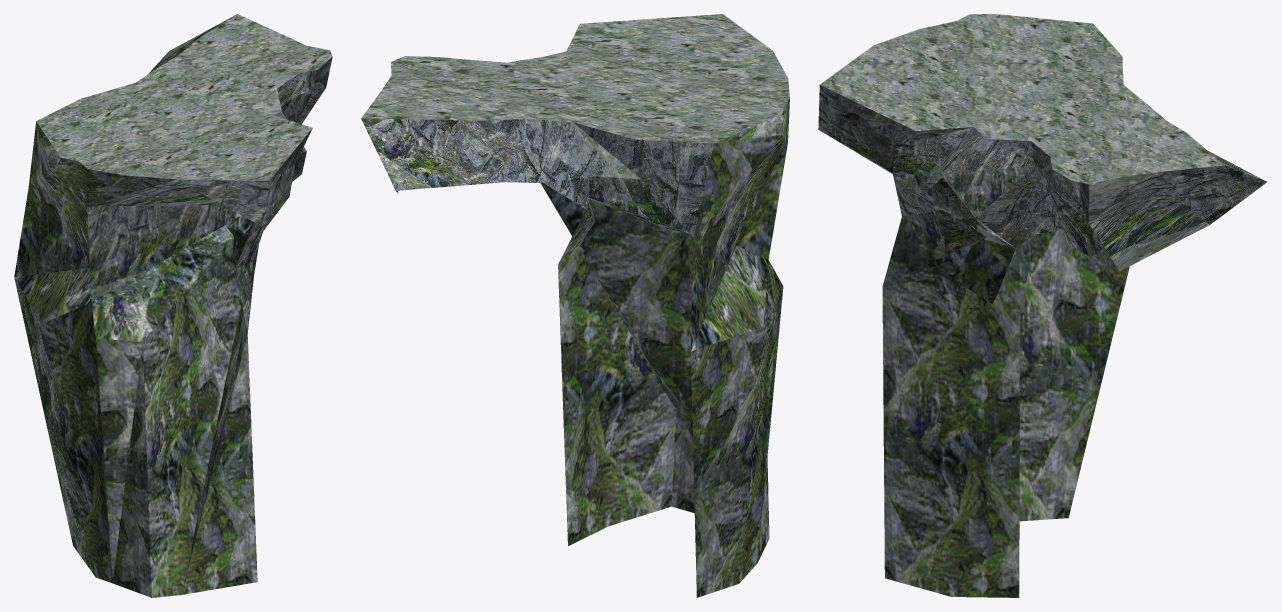
Rendered from der103.obj.
3 renders of one model, left to right at view 1: azimuth 30°, elevation 25°; view 2: azimuth 150°, elevation 25°; view 3: azimuth 270°, elevation 25°, orthographic. The views are drawn at different scales.
Parts seen in each view (by area): view 1: der103; view 2: der103; view 3: der103.
Boxes of the visible parts, x1,y1,x2,y2 form: der103: (14,14,332,597); der103: (361,14,789,597); der103: (818,14,1266,597).
Size of the model in its own units: 537 by 702 by 581.
